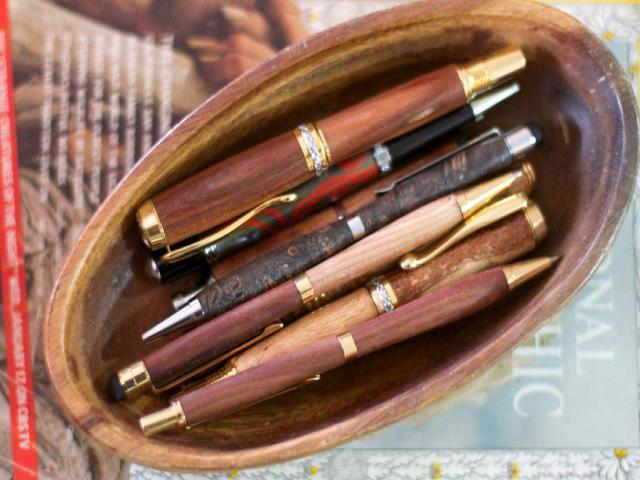PEN: (124, 221, 586, 455)
